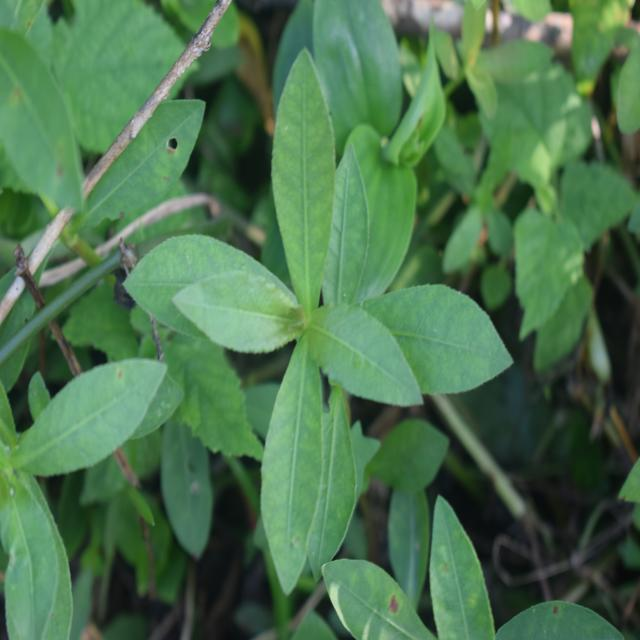Alligatorweed: (152, 76, 487, 515)
